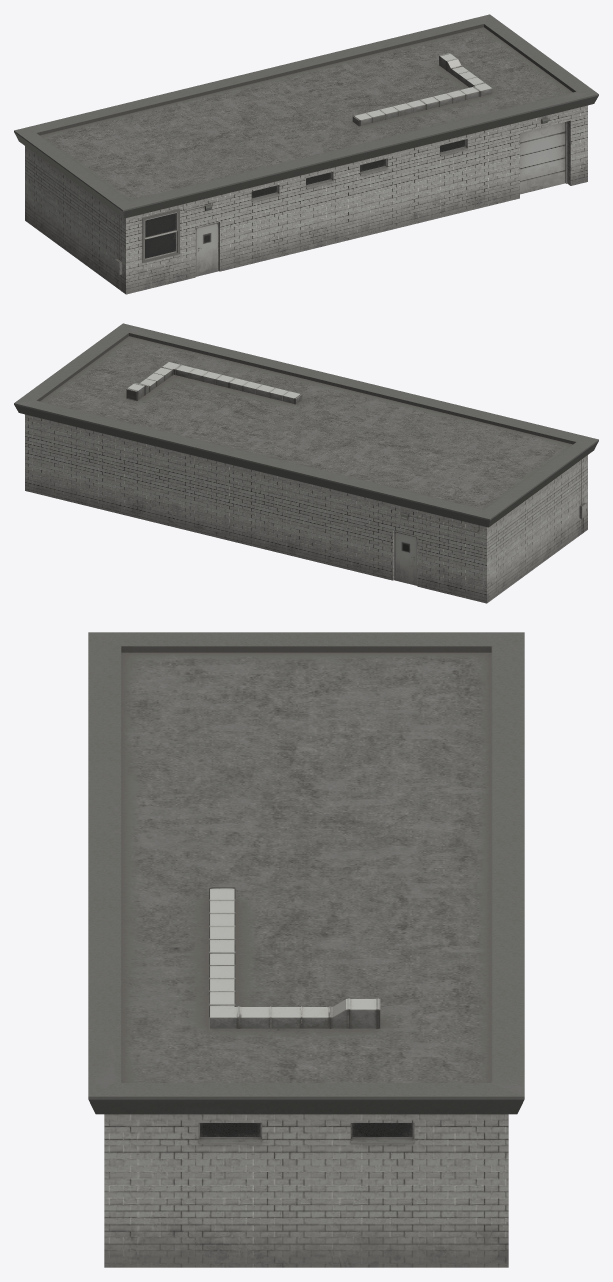
3 renders of one model, top to bottom at view 1: azimuth 30°, elevation 25°; view 2: azimuth 150°, elevation 25°; view 3: azimuth 270°, elevation 25°, orthographic. The views are drawn at different scales.
Visible parts, largest first — view 1: Building01; view 2: Building01; view 3: Building01.
Part boxes in pixels (left/top/right/bottom): Building01: left=14, top=14, right=598, bottom=294; Building01: left=14, top=323, right=598, bottom=603; Building01: left=88, top=632, right=524, bottom=1267.
Bounding box in the file's own units: 1901 × 365 × 755.
Materials: 1 (1 with a texture image).
